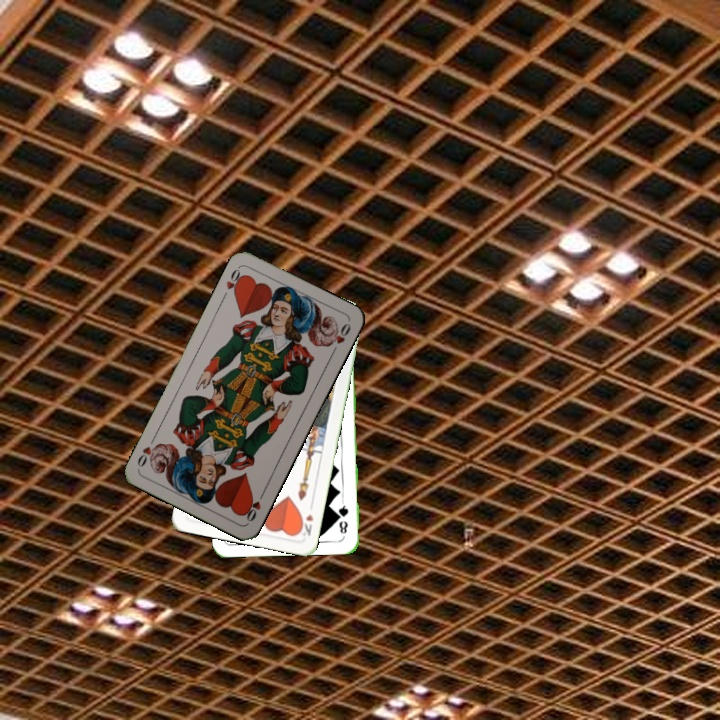G8: (335, 497, 351, 536)
HK: (295, 510, 316, 538)
HO: (218, 264, 247, 302), (240, 487, 267, 525)
